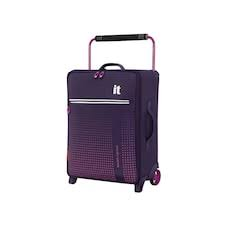suitcase: (61, 31, 163, 192)
